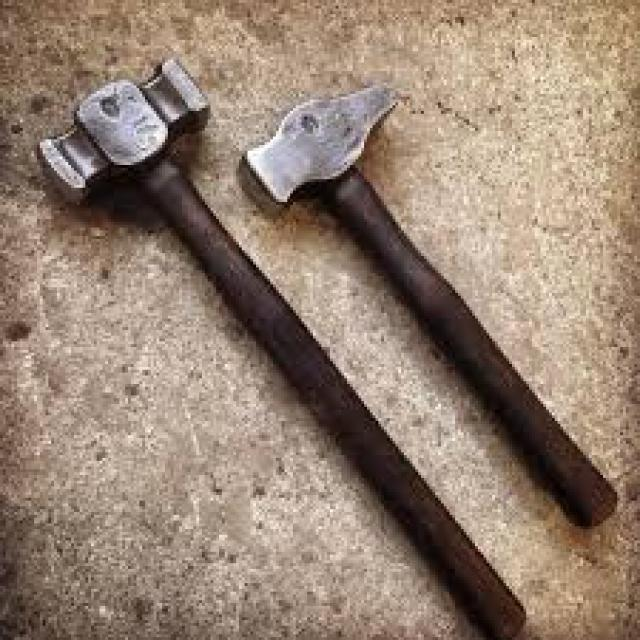hammer: (26, 51, 534, 640), (233, 72, 629, 559)
